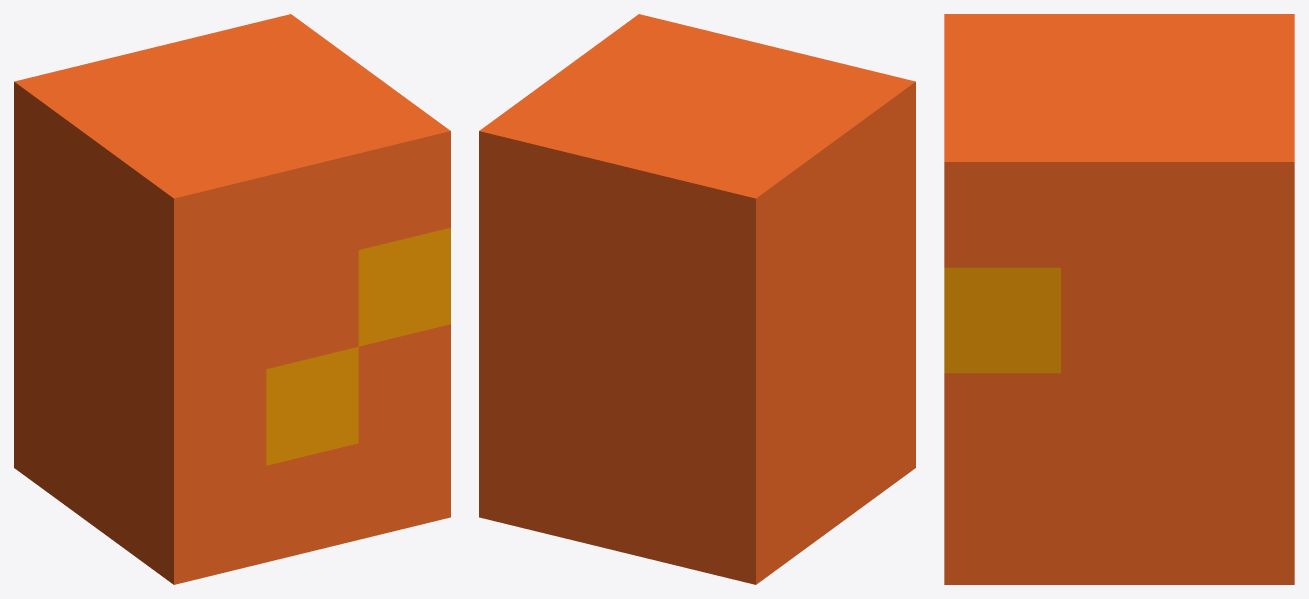
File: blob_d_walk_1.obj
3 renders of one model, left to right at view 1: azimuth 30°, elevation 25°; view 2: azimuth 150°, elevation 25°; view 3: azimuth 270°, elevation 25°, orthographic. The views are drawn at different scales.
Bounding box in the file's own units: 0.3 × 0.4 × 0.3.
Materials: 1 (1 with a texture image).
